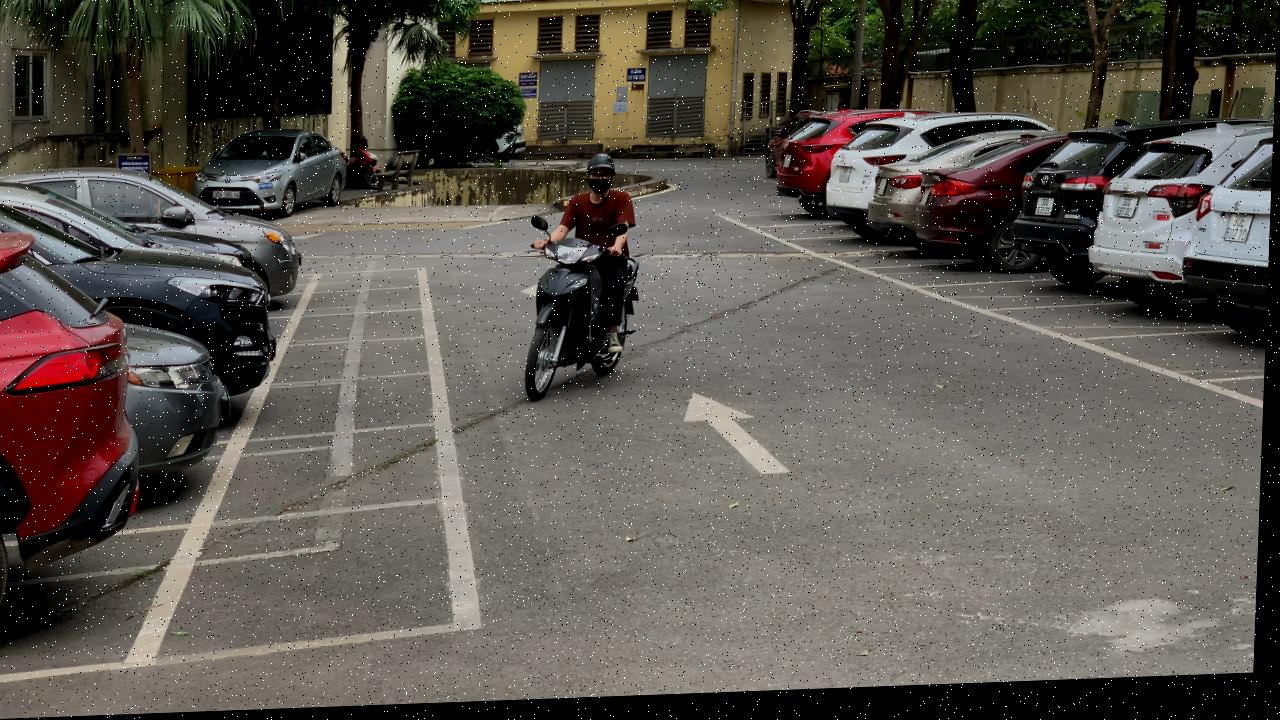helmet: (587, 158, 617, 178)
motorcyclist: (526, 155, 646, 406)
